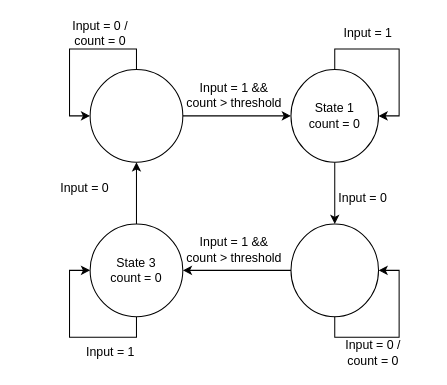
Image size: 447x385. Some labels were removed from this diagram. The centre of each missing label's shape, as x and y in pixels:
State 0 out = led Mati count ++: (136,115)
State 2 out = led Nyala count ++: (334,270)
